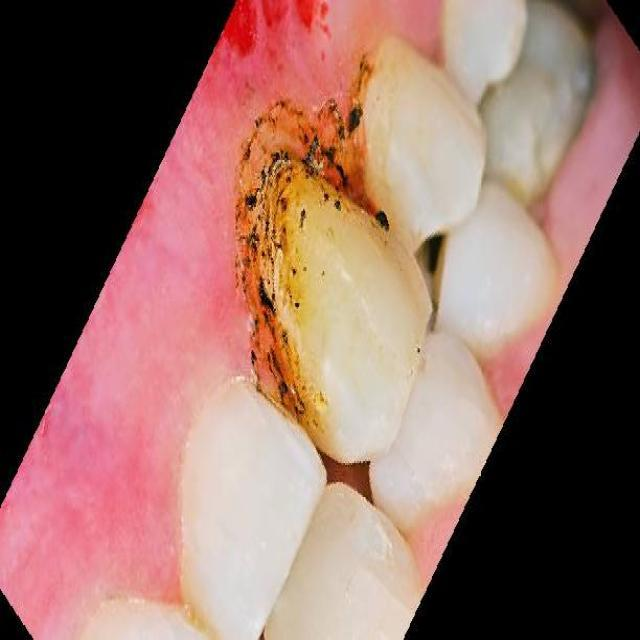calculus: (245, 113, 367, 384)
